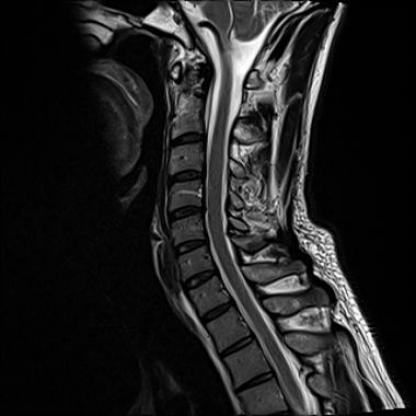Disc Protrusionrotation: (196, 303, 238, 322), (165, 168, 205, 186)
Osteophytesrotation: (165, 168, 205, 186)
